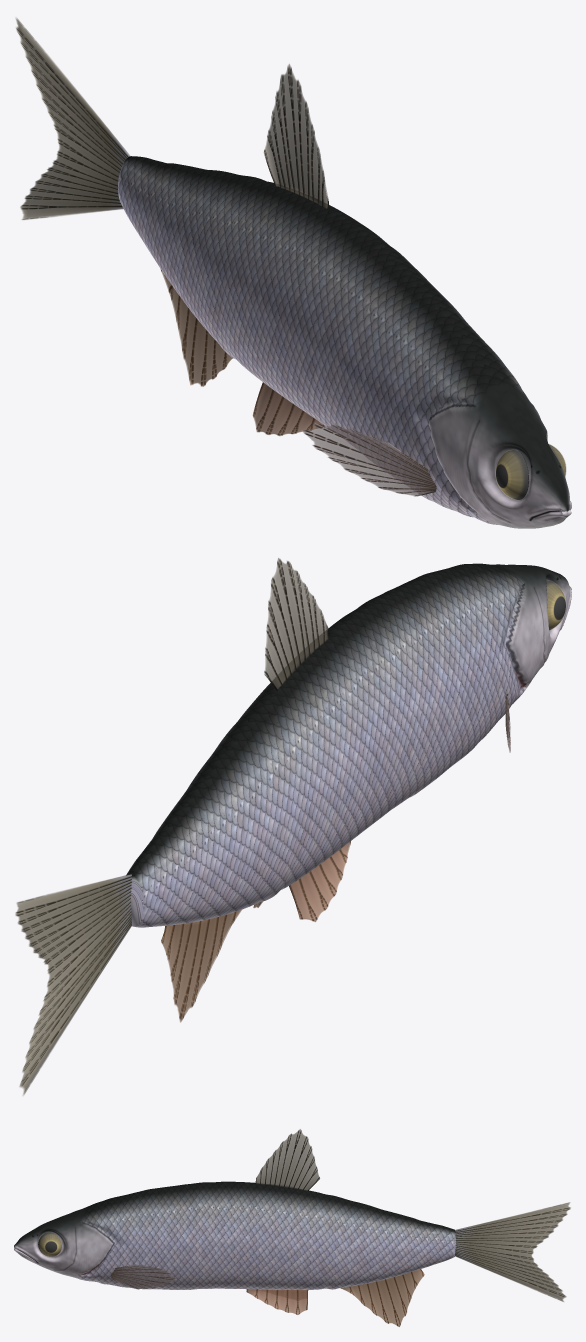
File: jelec.glb
3 renders of one model, top to bottom at view 1: azimuth 30°, elevation 25°; view 2: azimuth 150°, elevation 25°; view 3: azimuth 270°, elevation 25°, orthographic. The views are drawn at different scales.
Visible parts, largest first — view 1: Body, FinCaudal, FinDorsal1, FinPectoral, FinAnal, FinPelvic, CorneaLeft, EyeLeft; view 2: Body, FinCaudal, FinDorsal1, FinAnal, FinPelvic, CorneaLeft, EyeLeft; view 3: Body, FinCaudal, FinDorsal1, FinAnal, FinPectoral, FinPelvic, EyeRight, CorneaRight.
Part boxes in pixels (bbox=[...]): Body: bbox=[118, 156, 571, 528]; FinCaudal: bbox=[16, 18, 130, 219]; FinDorsal1: bbox=[263, 64, 328, 209]; FinPectoral: bbox=[302, 423, 436, 496]; FinAnal: bbox=[160, 269, 232, 386]; FinPelvic: bbox=[252, 382, 324, 435]; CorneaLeft: bbox=[495, 450, 528, 499]; EyeLeft: bbox=[496, 450, 528, 499]; Body: bbox=[126, 563, 571, 927]; FinCaudal: bbox=[15, 874, 131, 1095]; FinDorsal1: bbox=[264, 558, 328, 690]; FinAnal: bbox=[161, 910, 241, 1022]; FinPelvic: bbox=[253, 841, 350, 921]; CorneaLeft: bbox=[546, 580, 566, 630]; EyeLeft: bbox=[546, 580, 565, 630]; Body: bbox=[14, 1181, 455, 1289]; FinCaudal: bbox=[455, 1202, 570, 1301]; FinDorsal1: bbox=[255, 1129, 319, 1190]; FinAnal: bbox=[340, 1269, 424, 1326]; FinPectoral: bbox=[111, 1264, 176, 1289]; FinPelvic: bbox=[246, 1289, 308, 1314]; EyeRight: bbox=[38, 1232, 61, 1256]; CorneaRight: bbox=[38, 1232, 61, 1256].
Bounding box in the file's own units: 0.2191 × 0.3942 × 1.
8 materials, 7 textured.
